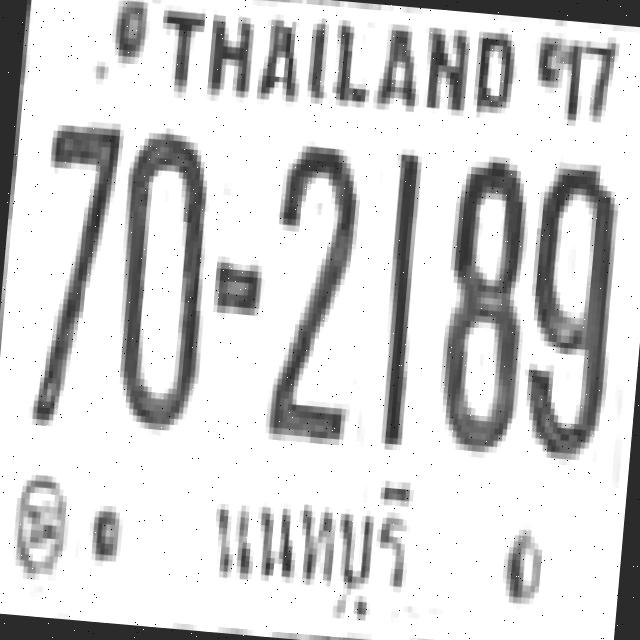0: (105, 124, 218, 426)
1: (372, 141, 423, 444)
2: (260, 138, 364, 438), (260, 138, 362, 414)
7: (24, 114, 120, 420), (32, 114, 120, 328)
8: (432, 146, 532, 448)
9: (518, 154, 622, 455)
Nonthaburi: (192, 452, 428, 631)
